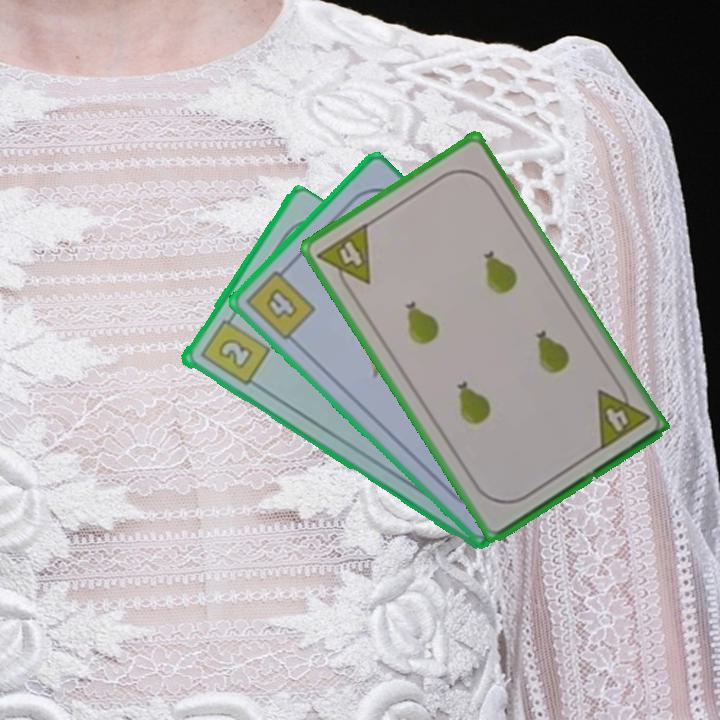2b: (196, 309, 272, 389)
4b: (242, 261, 319, 343)
4p: (313, 219, 374, 298), (592, 377, 652, 453)
